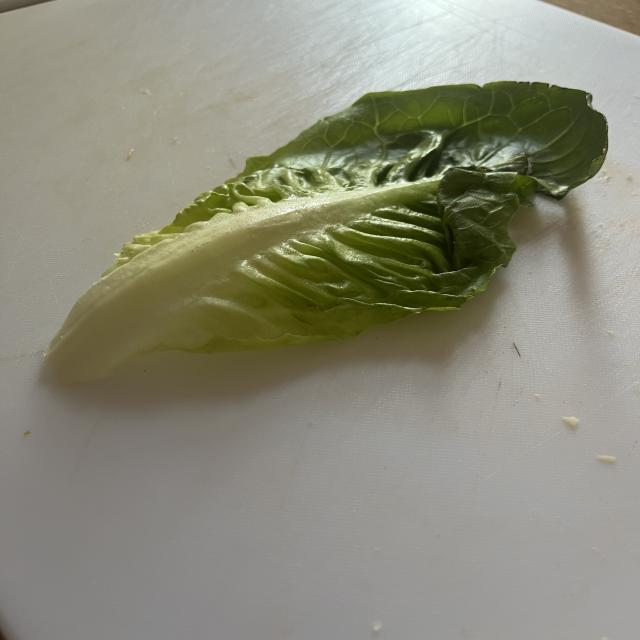lettuce: (45, 82, 607, 381)
